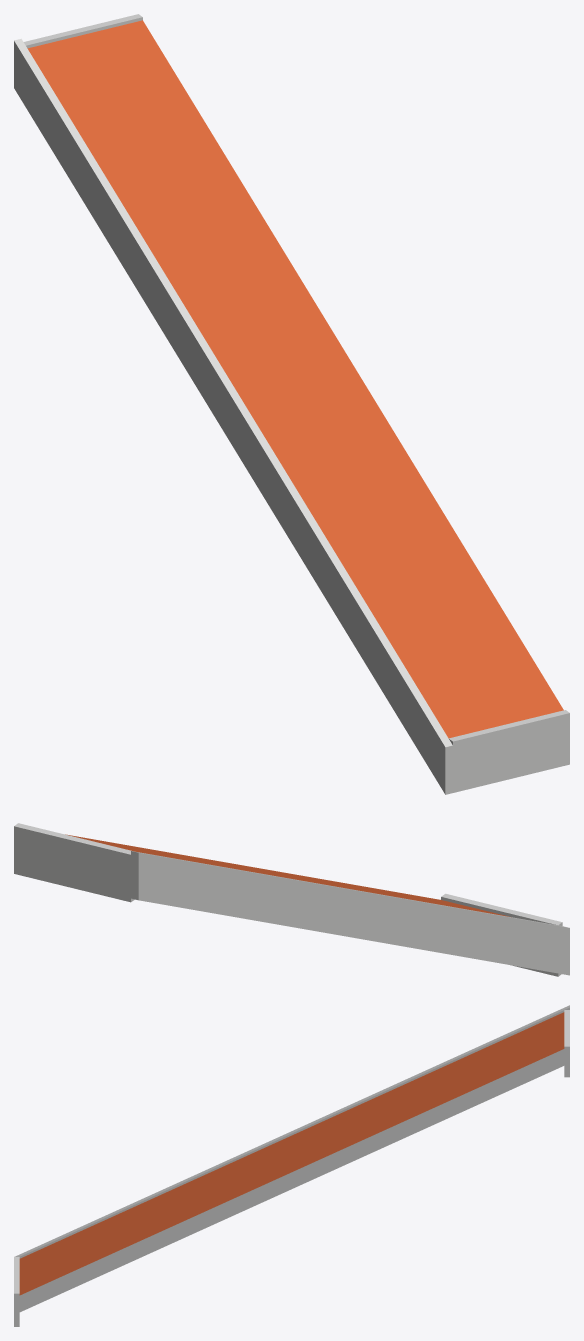
Rendered from telhado_meia_agua_empena_esq_v2_i50.glb.
3 renders of one model, top to bottom at view 1: azimuth 30°, elevation 25°; view 2: azimuth 150°, elevation 25°; view 3: azimuth 270°, elevation 25°, orthographic. The views are drawn at different scales.
Parts seen in each view (by area): view 1: telhado_meia_agua_empena_esq_v2_i50; view 2: telhado_meia_agua_empena_esq_v2_i50; view 3: telhado_meia_agua_empena_esq_v2_i50.
Boxes of the visible parts, left/top/right/bottom form: telhado_meia_agua_empena_esq_v2_i50: left=14, top=14, right=569, bottom=794; telhado_meia_agua_empena_esq_v2_i50: left=14, top=823, right=569, bottom=976; telhado_meia_agua_empena_esq_v2_i50: left=14, top=1005, right=569, bottom=1326.
Size of the model in its own units: 0.5 by 1.68 by 3.
